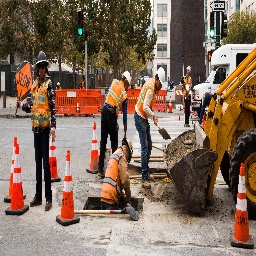helmet: (34, 51, 50, 67), (158, 68, 165, 88), (123, 70, 132, 85)
person: (30, 49, 57, 212), (134, 67, 166, 190), (97, 70, 133, 147), (99, 136, 133, 212), (179, 61, 194, 126)
vest: (101, 146, 124, 202), (31, 74, 50, 129), (138, 75, 155, 118), (109, 79, 124, 112)
